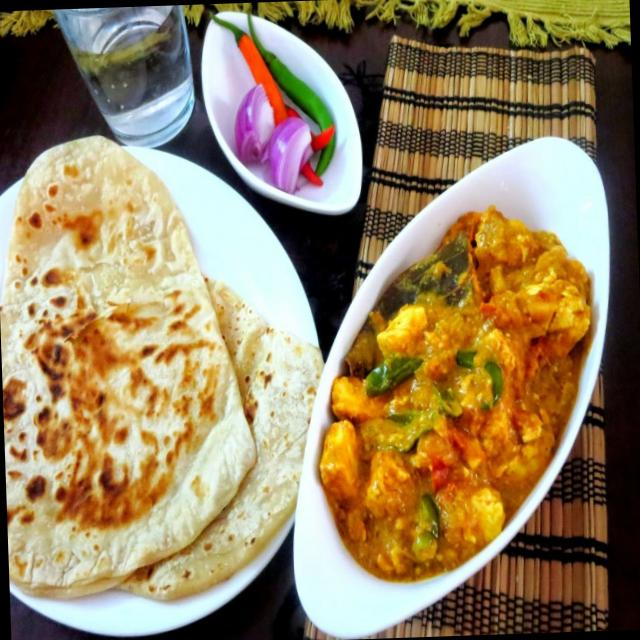ShahiPaneer: (307, 201, 604, 584)
